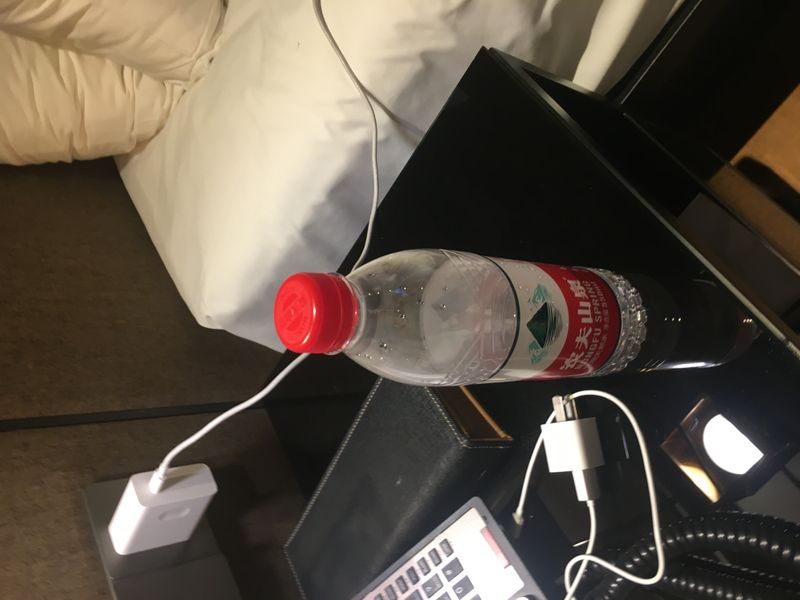5eca67a90202601e8cb8d104: (276, 253, 648, 385)
